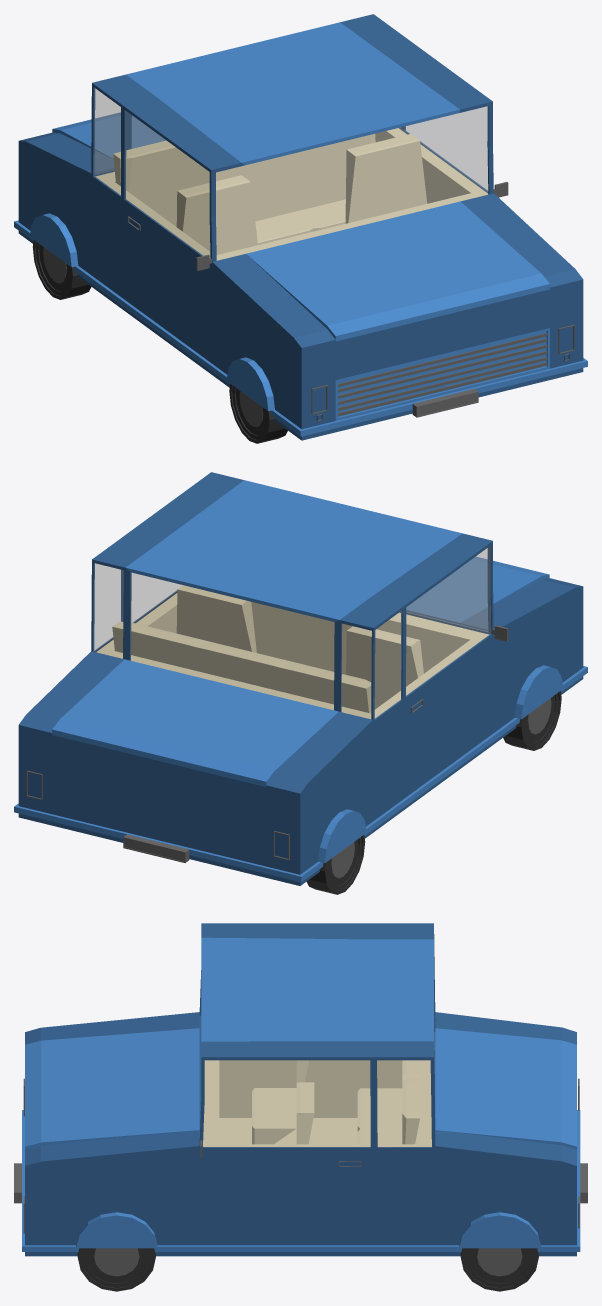
The model's file is Car_00.fbx.
3 views of the same model, one above another, from view 1: azimuth 30°, elevation 25°; view 2: azimuth 150°, elevation 25°; view 3: azimuth 270°, elevation 25° (orthographic). The views are drawn at different scales.
Visible parts, largest first — view 1: Car_00; view 2: Car_00; view 3: Car_00.
Boxes of the visible parts, x1,y1,x2,y2 form: Car_00: [14, 14, 587, 443]; Car_00: [14, 472, 587, 894]; Car_00: [14, 923, 587, 1291].
Size of the model in its own units: 147 by 108 by 242.
